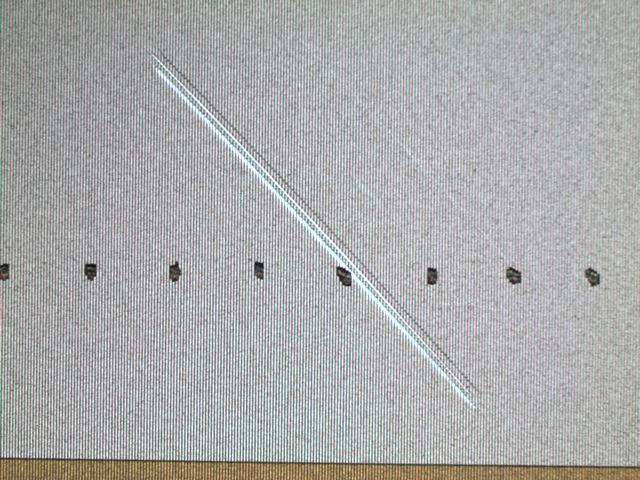SCRATCH: (150, 51, 487, 410)
